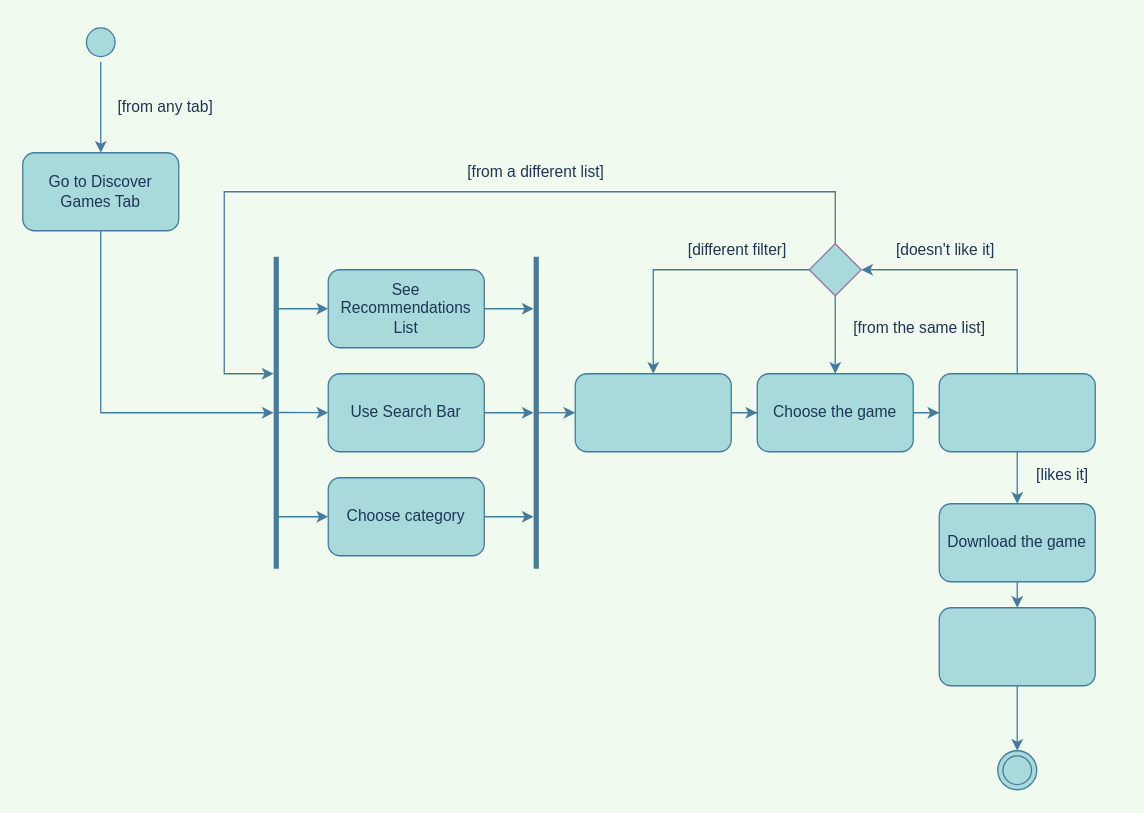
The diagram is 1144 pixels wide and 813 high, and some of its shapes have lost their labels. The centre of each missing label's shape, as x and y in pixels:
Filter the games: pixel 652 412
Play the game: pixel 1016 646
Read description, ratings, comments: pixel 1016 412
